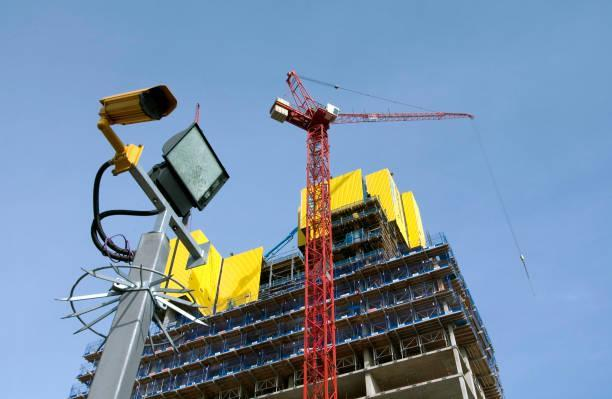camera: (83, 77, 184, 133)
